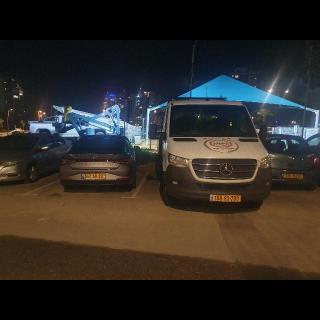LicensePlate: (213, 195, 241, 202), (284, 174, 303, 179), (85, 174, 106, 178)
